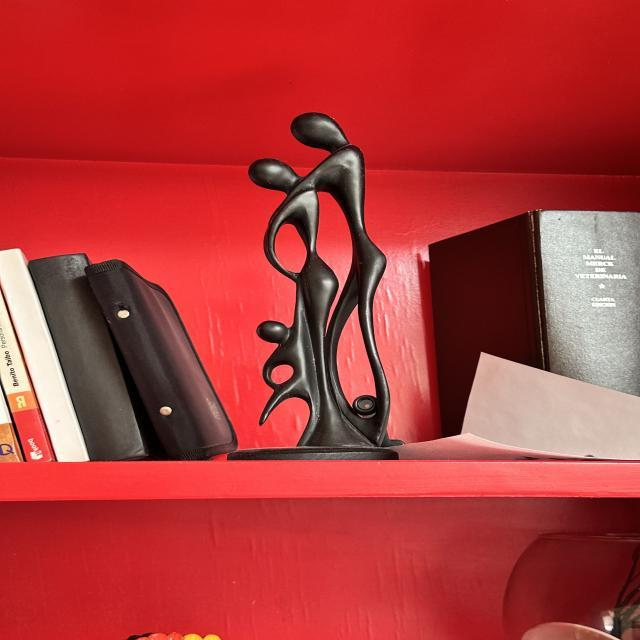hidden camera: (353, 395, 379, 414)
